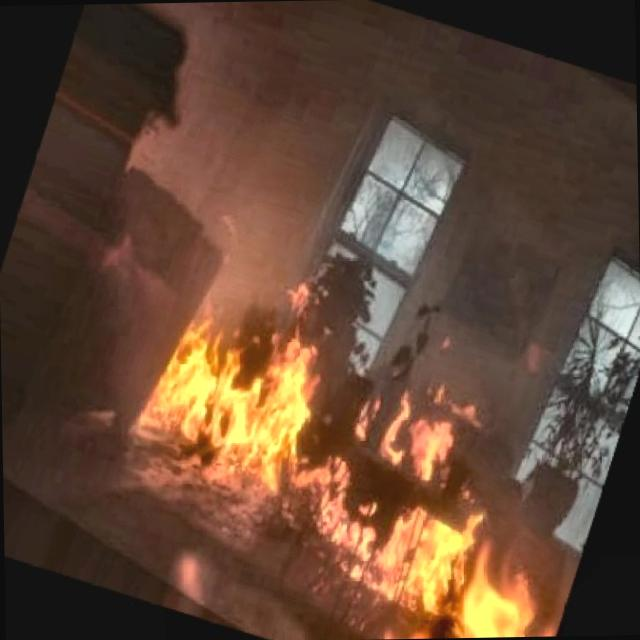fire: (59, 178, 640, 640)
